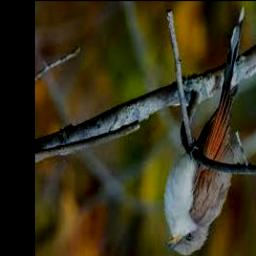Cuckoo: (165, 6, 244, 256)
